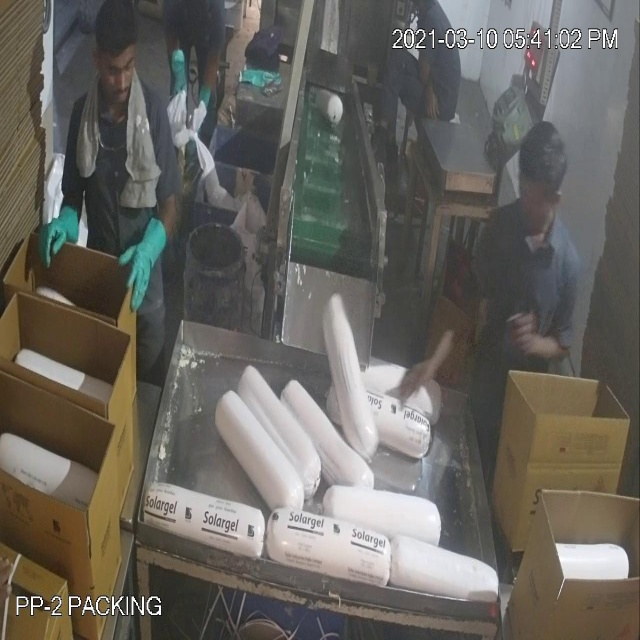Guantes: (114, 208, 180, 336), (29, 180, 88, 277)
Sin_guantes: (377, 301, 484, 419), (506, 308, 571, 387)
